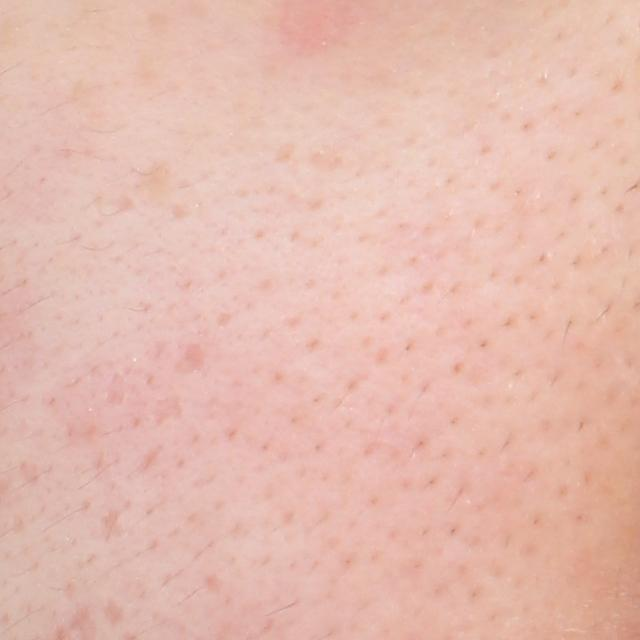atrophic_scar: (172, 343, 212, 378), (149, 393, 185, 428), (98, 499, 126, 544), (105, 596, 127, 626)
